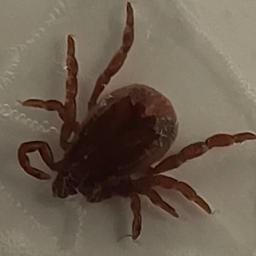Rhipicephalus sanguineus: (18, 2, 254, 239)
